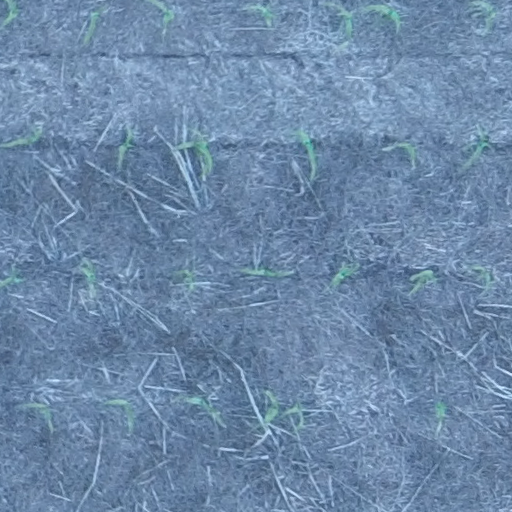planta: (320, 1, 355, 51), (173, 393, 224, 426), (289, 129, 318, 182), (177, 136, 213, 178), (461, 122, 491, 172), (103, 397, 136, 435), (361, 2, 402, 32), (81, 5, 106, 45), (22, 401, 55, 431), (465, 263, 494, 293), (407, 268, 438, 295), (117, 121, 134, 170), (246, 3, 276, 27), (281, 403, 305, 432), (238, 265, 291, 278), (261, 388, 280, 424), (330, 263, 357, 286), (392, 140, 418, 162), (172, 269, 195, 291), (78, 258, 96, 283)
